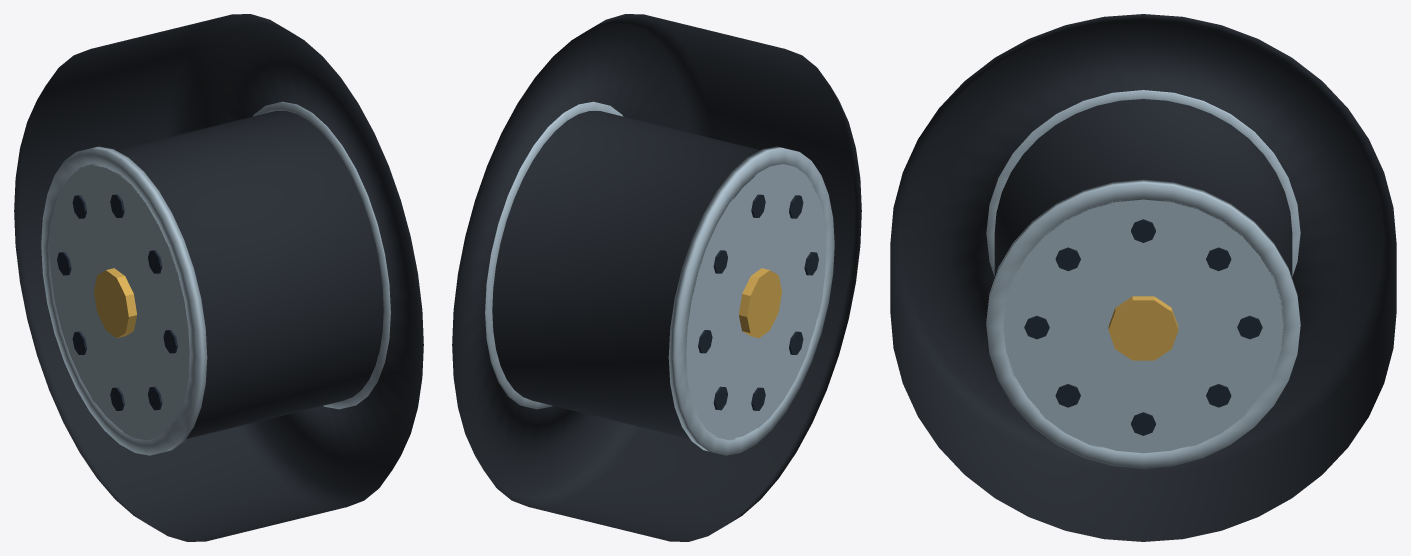
File: aero.glb
The picture shows the model from 3 angles, left to right: view 1: azimuth 30°, elevation 25°; view 2: azimuth 150°, elevation 25°; view 3: azimuth 270°, elevation 25°; orthographic projection.
Visible parts, largest first — view 1: Wheel; view 2: Wheel; view 3: Wheel.
Boxes of the visible parts, x1,y1,x2,y2 form: Wheel: (14,14,423,541); Wheel: (452,14,861,541); Wheel: (890,14,1396,541).
Size of the model in its own units: 0.334 by 0.68 by 0.68.
